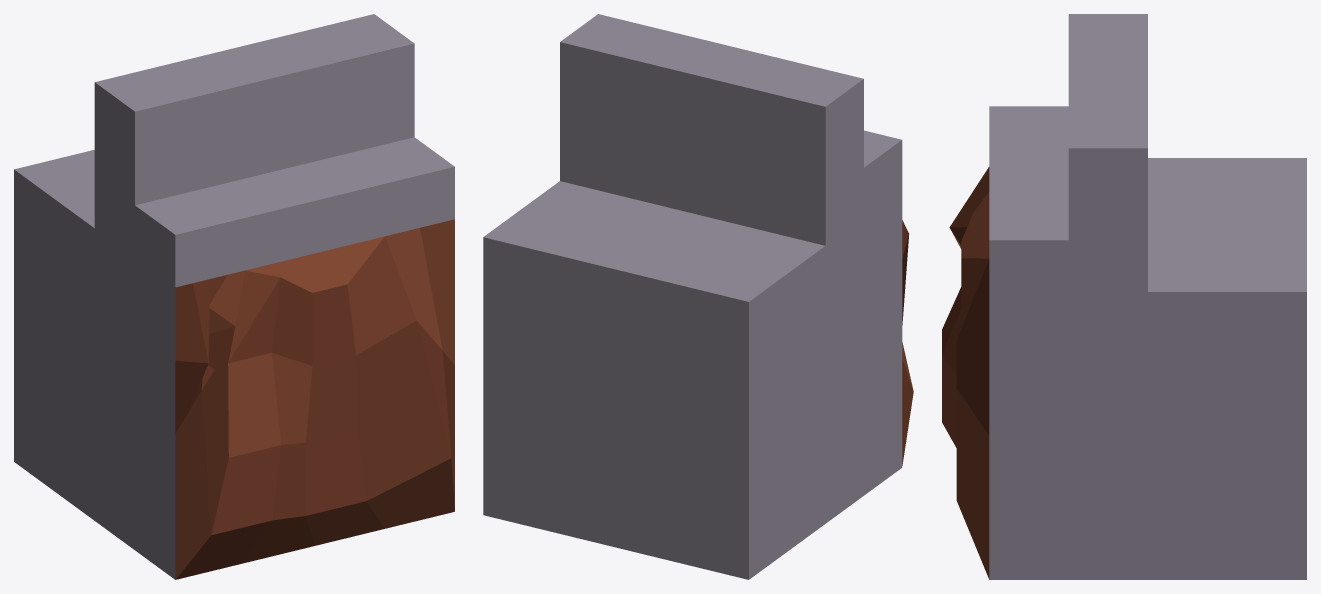
Rendered from TopSide.fbx.
3 views of the same model, side by side, from view 1: azimuth 30°, elevation 25°; view 2: azimuth 150°, elevation 25°; view 3: azimuth 270°, elevation 25° (orthographic). The views are drawn at different scales.
Parts seen in each view (by area): view 1: Cube.002; view 2: Cube.002; view 3: Cube.002.
Boxes of the visible parts, x1,y1,x2,y2 form: Cube.002: (14, 14, 454, 579); Cube.002: (483, 14, 913, 579); Cube.002: (942, 14, 1306, 579).
Bounding box in the file's own units: 200 × 300 × 230.
